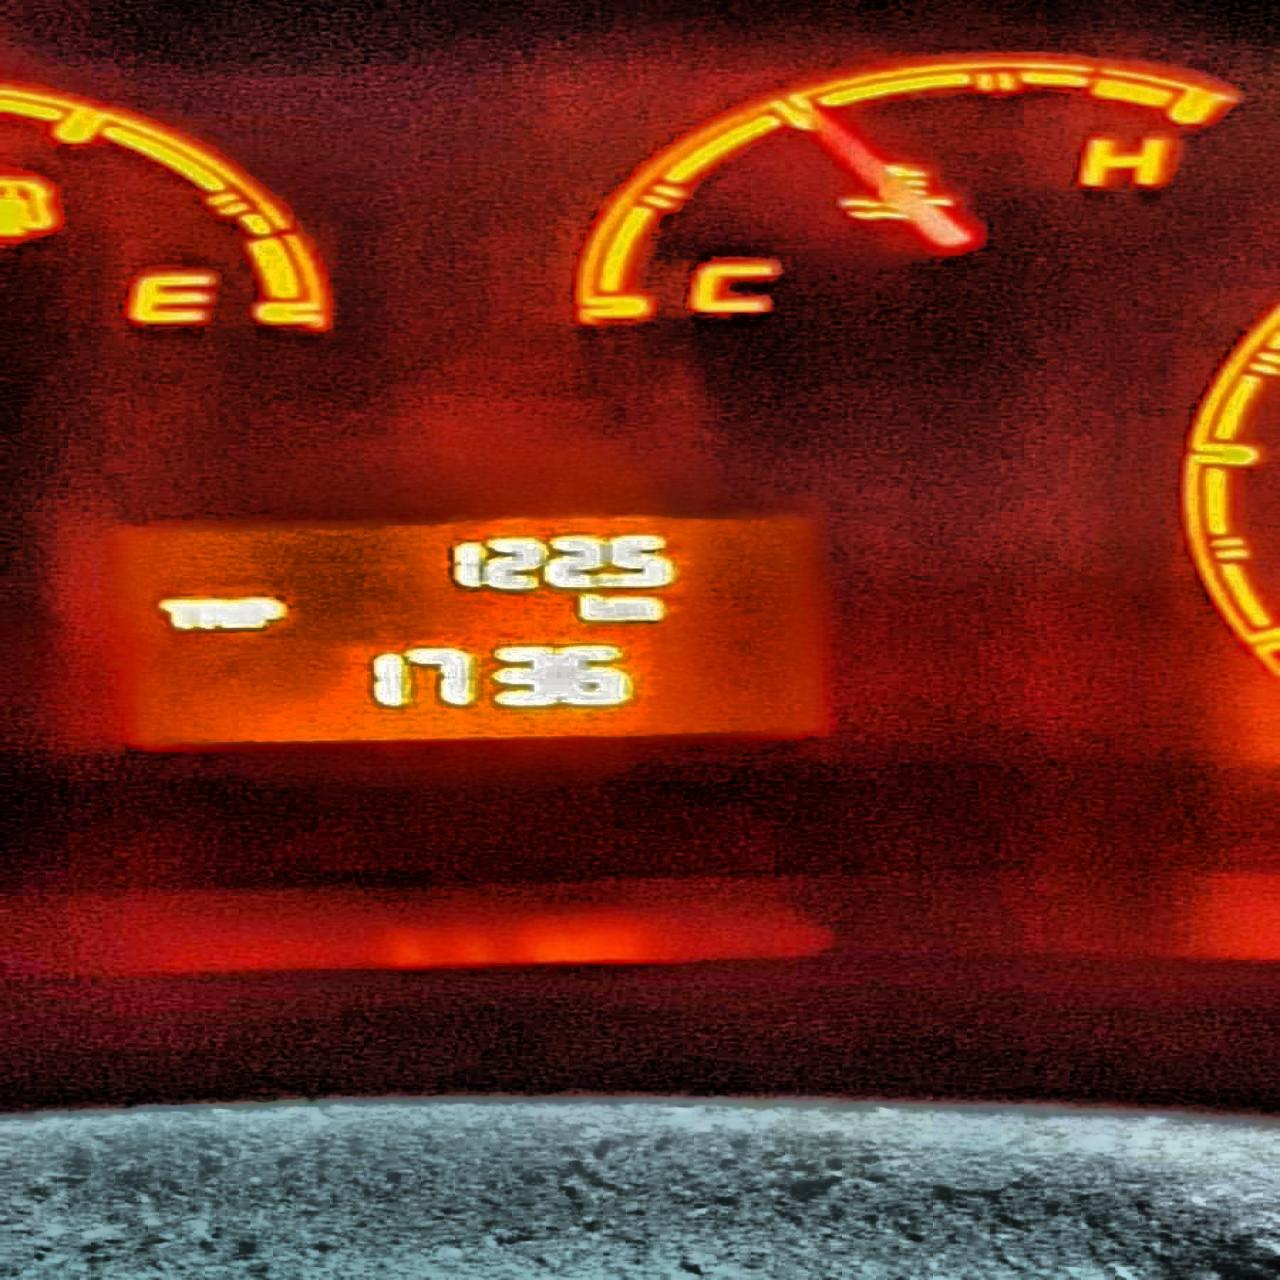1: (368, 651, 407, 708), (450, 539, 482, 588)
2: (543, 533, 602, 588), (482, 536, 542, 591)
3: (490, 644, 554, 707)
5: (608, 533, 678, 588)
6: (554, 644, 631, 707)
7: (406, 646, 474, 708)
X: (615, 594, 668, 624), (158, 595, 198, 633), (248, 595, 286, 631), (577, 592, 615, 624), (197, 595, 231, 631), (231, 595, 247, 633)
odometer: (91, 503, 845, 760)
